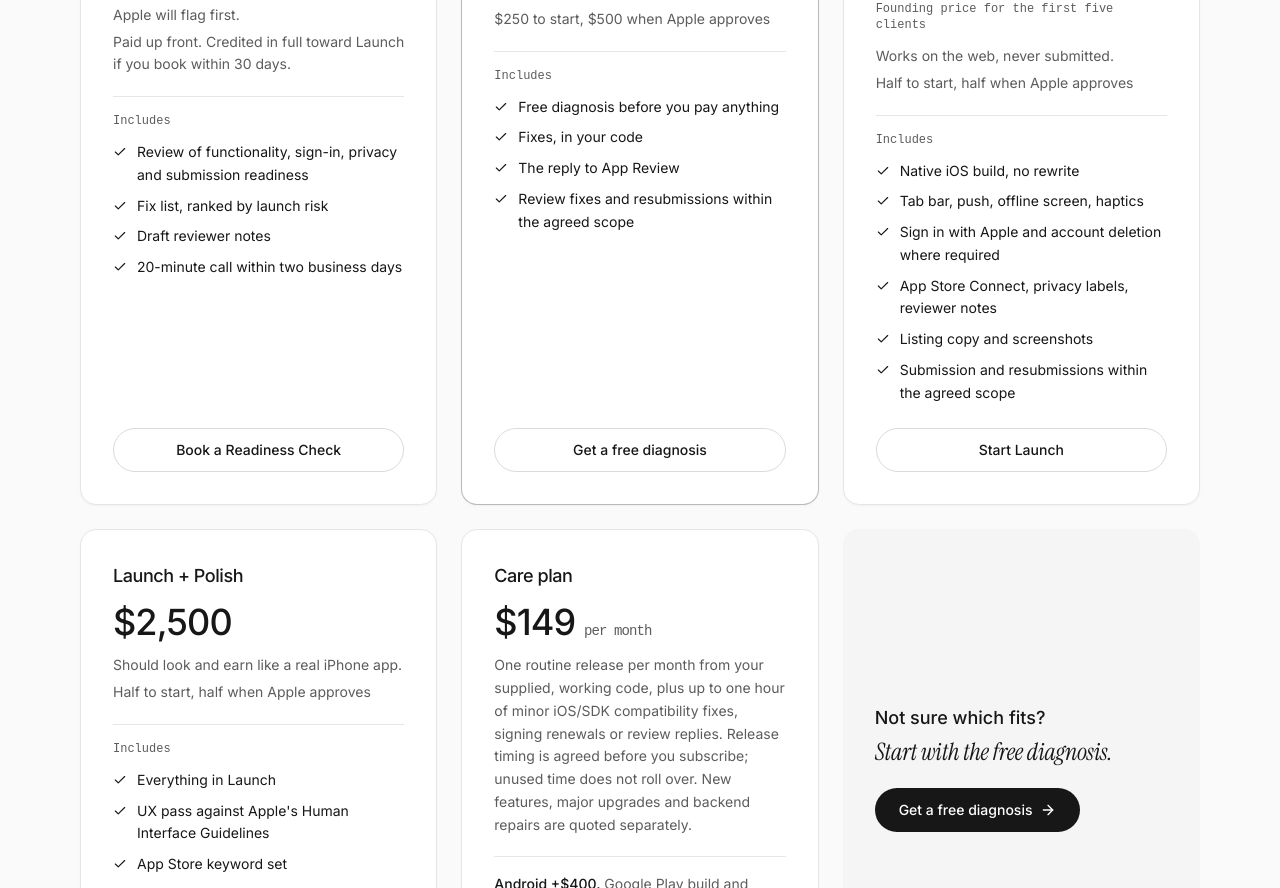
Test: Standalone service pages › renders pricing with its own heading and an intake
The width and height of the screenshot is (1280, 888).
(page scrolled)
Step 1. Click the link "Start Launch" → (1021, 450), box [876,428,1167,472]
(page scrolled)
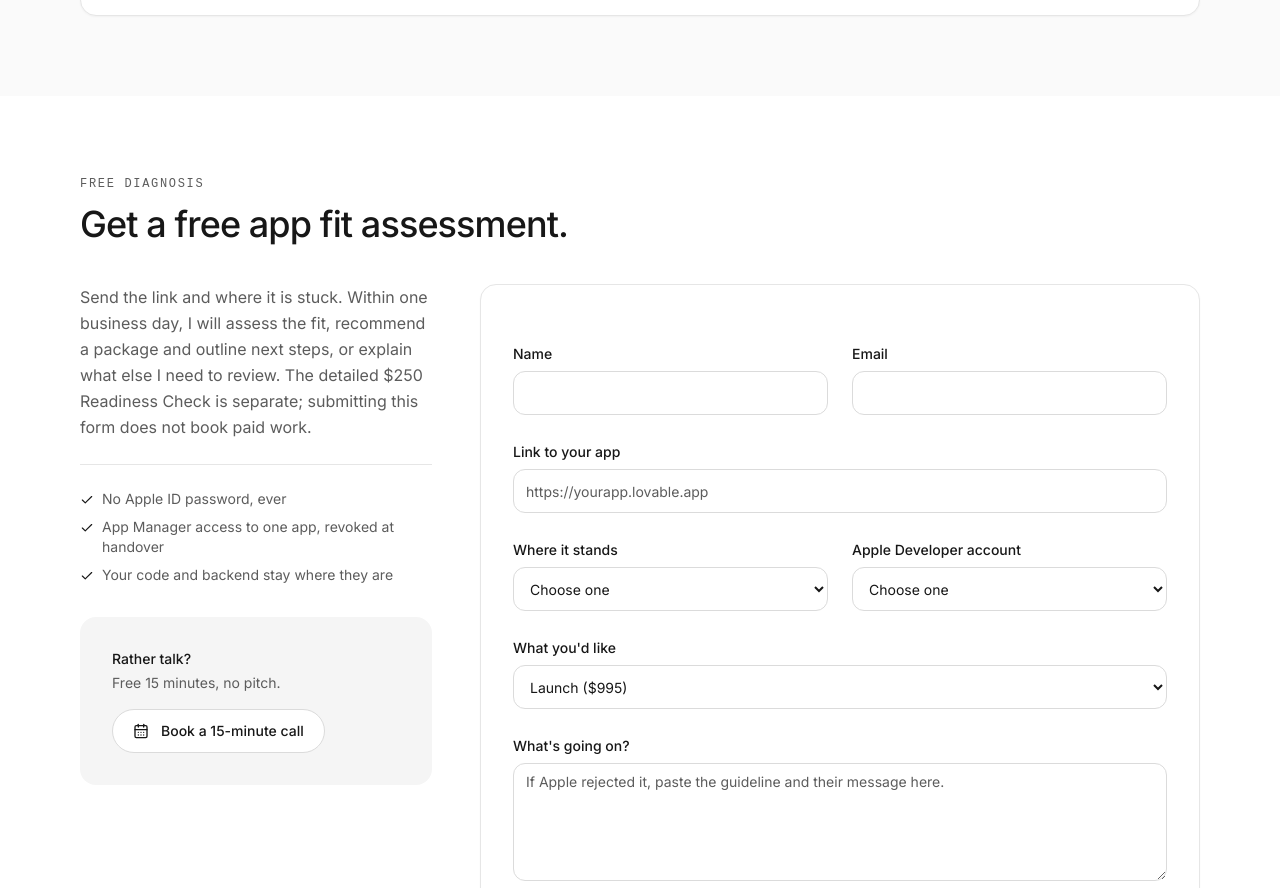
Check: the dropdown labelled "What you'd like" shows "Launch ($995)", box [513,665,1167,709]
